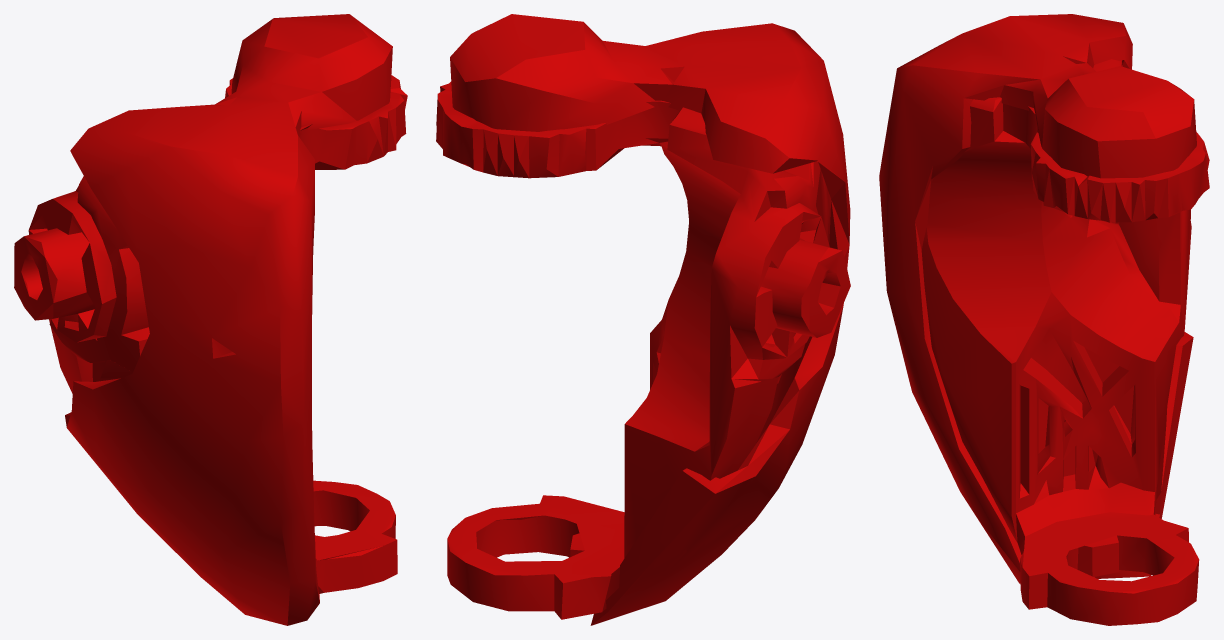
Rendered from RYawPitch.obj.
3 views of the same model, side by side, from view 1: azimuth 30°, elevation 25°; view 2: azimuth 150°, elevation 25°; view 3: azimuth 270°, elevation 25° (orthographic). The views are drawn at different scales.
Parts seen in each view (by area): view 1: RYawPitch_Mesh.026; view 2: RYawPitch_Mesh.026; view 3: RYawPitch_Mesh.026.
Part boxes in pixels (bbox=[...]): RYawPitch_Mesh.026: bbox=[14, 14, 407, 625]; RYawPitch_Mesh.026: bbox=[436, 14, 850, 625]; RYawPitch_Mesh.026: bbox=[879, 14, 1209, 625].
Size of the model in its own units: 64.75 by 91.28 by 52.24.
